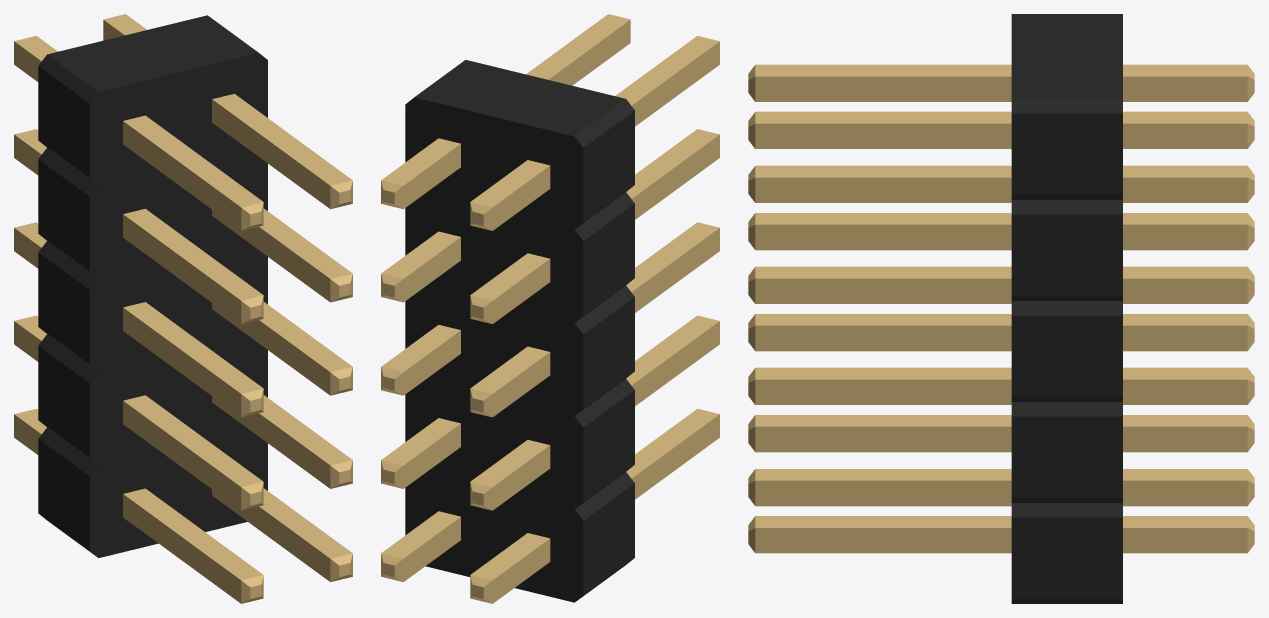
File: PinHeader_2x05_P2.54mm_Vertical.glb
The picture shows the model from 3 angles, left to right: view 1: azimuth 30°, elevation 25°; view 2: azimuth 150°, elevation 25°; view 3: azimuth 270°, elevation 25°; orthographic projection. The views are drawn at different scales.
Visible parts, largest first — view 1: PinHeader_2x05_P254mm_Vertical_245bf4, PinHeader_2x05_P254mm_Vertical_eede0c; view 2: PinHeader_2x05_P254mm_Vertical_245bf4, PinHeader_2x05_P254mm_Vertical_eede0c; view 3: PinHeader_2x05_P254mm_Vertical_eede0c, PinHeader_2x05_P254mm_Vertical_245bf4.
Part boxes in pixels (<box>): PinHeader_2x05_P254mm_Vertical_245bf4: <box>38,15,267,557</box>; PinHeader_2x05_P254mm_Vertical_eede0c: <box>14,14,352,603</box>; PinHeader_2x05_P254mm_Vertical_245bf4: <box>405,60,634,602</box>; PinHeader_2x05_P254mm_Vertical_eede0c: <box>381,14,719,603</box>; PinHeader_2x05_P254mm_Vertical_eede0c: <box>748,64,1254,553</box>; PinHeader_2x05_P254mm_Vertical_245bf4: <box>1011,14,1122,603</box>.
Bounding box in the file's own units: 0.00508 × 0.0127 × 0.0115.
